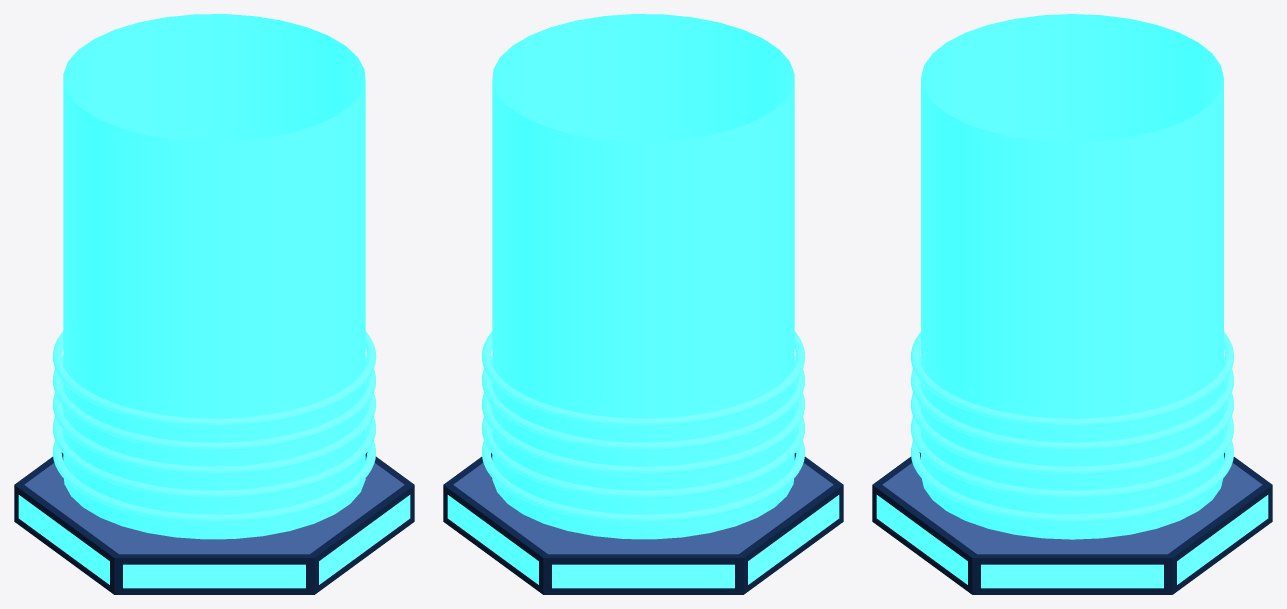
Rendered from portal.glb.
The picture shows the model from 3 angles, left to right: view 1: azimuth 30°, elevation 25°; view 2: azimuth 150°, elevation 25°; view 3: azimuth 270°, elevation 25°; orthographic projection.
Parts seen in each view (by area): view 1: Portal_LOD0; view 2: Portal_LOD0; view 3: Portal_LOD0.
Part boxes in pixels (x1=…): Portal_LOD0: x1=14, y1=14, x2=414, y2=594; Portal_LOD0: x1=443, y1=14, x2=843, y2=594; Portal_LOD0: x1=872, y1=14, x2=1272, y2=594.
Size of what is drawn, in the model's own units: 2.05 by 2.89 by 2.36.
